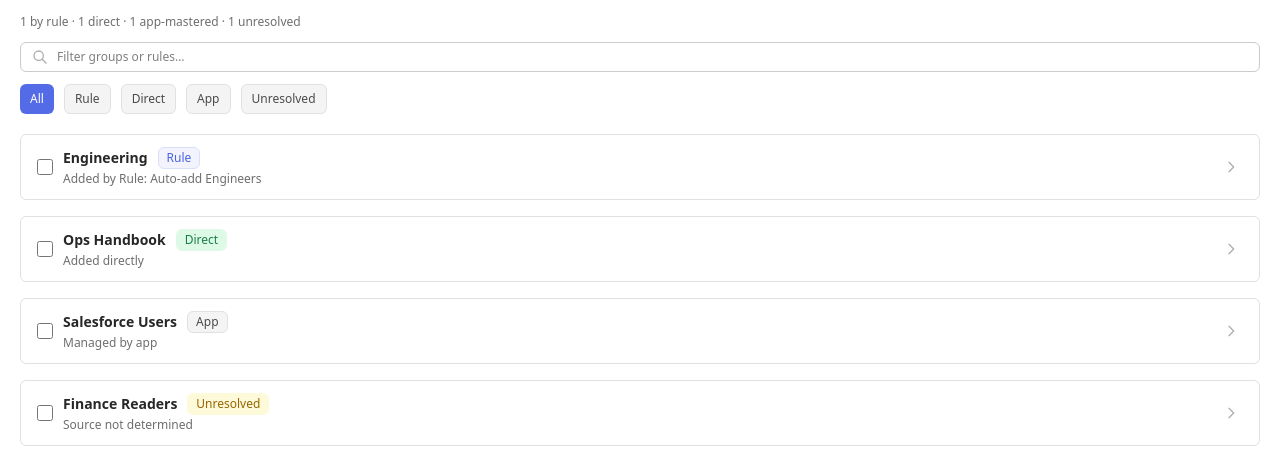
Test: GroupMembershipsList — the pane header › filters on the group name
Type "ops" into the search field named "Filter group memberships" at (640, 57), box x1=20 y1=42 x2=1260 y2=72
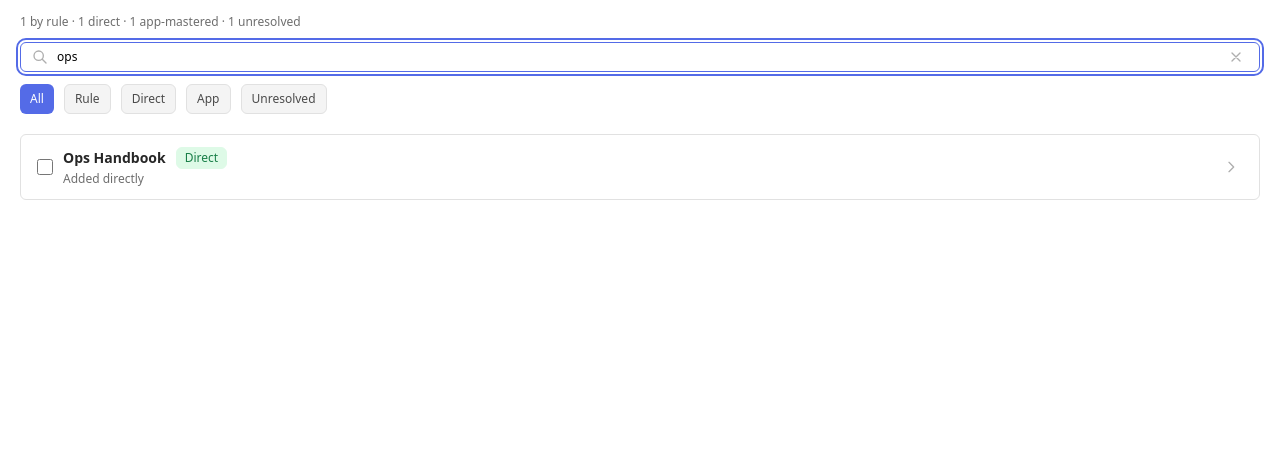
Expected: the heading "Ops Handbook" is shown, x1=63 y1=148 x2=166 y2=168
Result: the heading "Engineering" is gone
